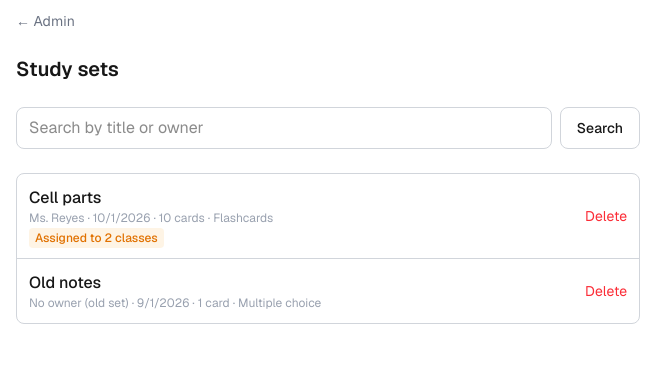
Test: admin sets page › shows the server's error and keeps the set
The image size is (657, 385).
Click the button with aria-label "Delete Cell parts" at (606, 216), box [585, 206, 627, 226]
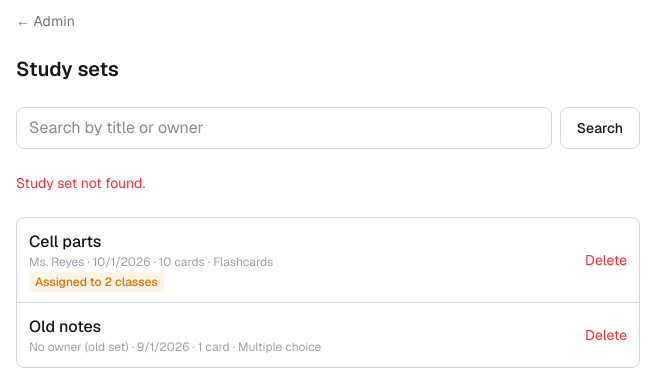
expect the number of list items is 2: met, box [17, 218, 639, 303]; [17, 303, 639, 367]
expect the message reads "Study set not found.": met, box [16, 174, 145, 192]
